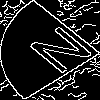N: (25, 25, 100, 83)
